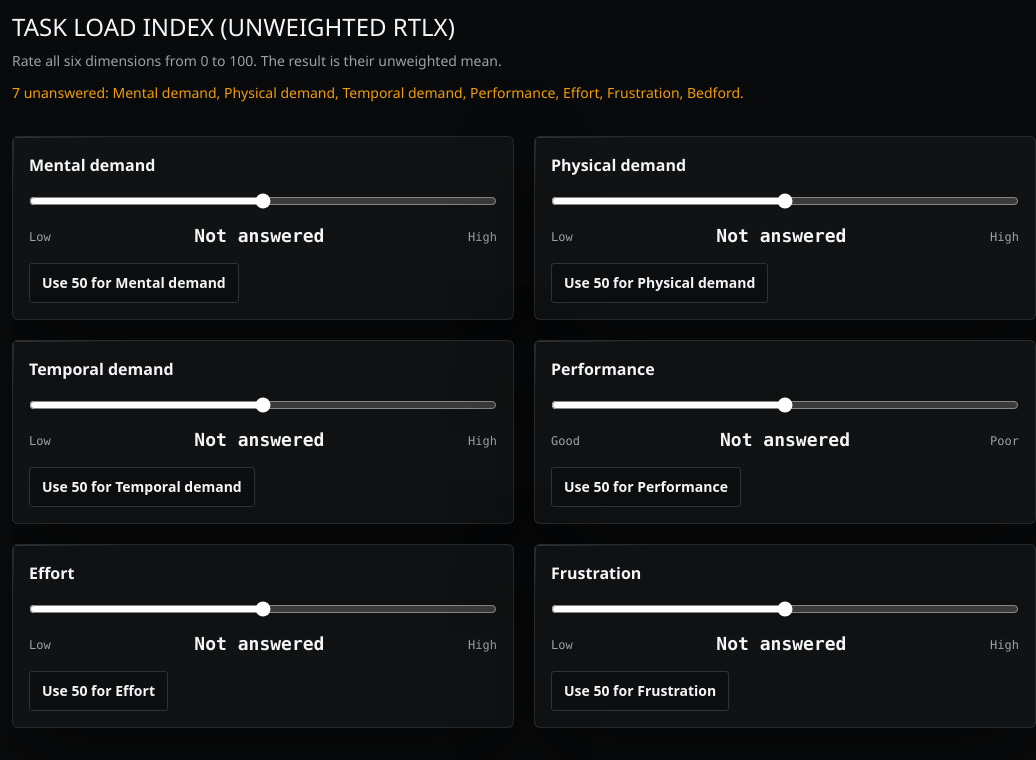
Test case: WorkloadQuestionnaire › keeps the midpoint unanswered until the participant deliberately chooses 50
The width and height of the screenshot is (1036, 760).
expect the text "7 unanswered: Mental demand, Physical demand, Temporal demand, Performance, Effort, Frustration, Bedford." is shown: met, box [12,84,744,103]
expect the text "Not answered" is shown 6 times: met, box [194,223,324,251]; [716,223,846,251]; [194,427,324,455]; [720,427,850,455]; [194,631,324,659]; [716,631,846,659]
Click the button "Use 50 for Mental demand": (134,283) [29,263,239,303]
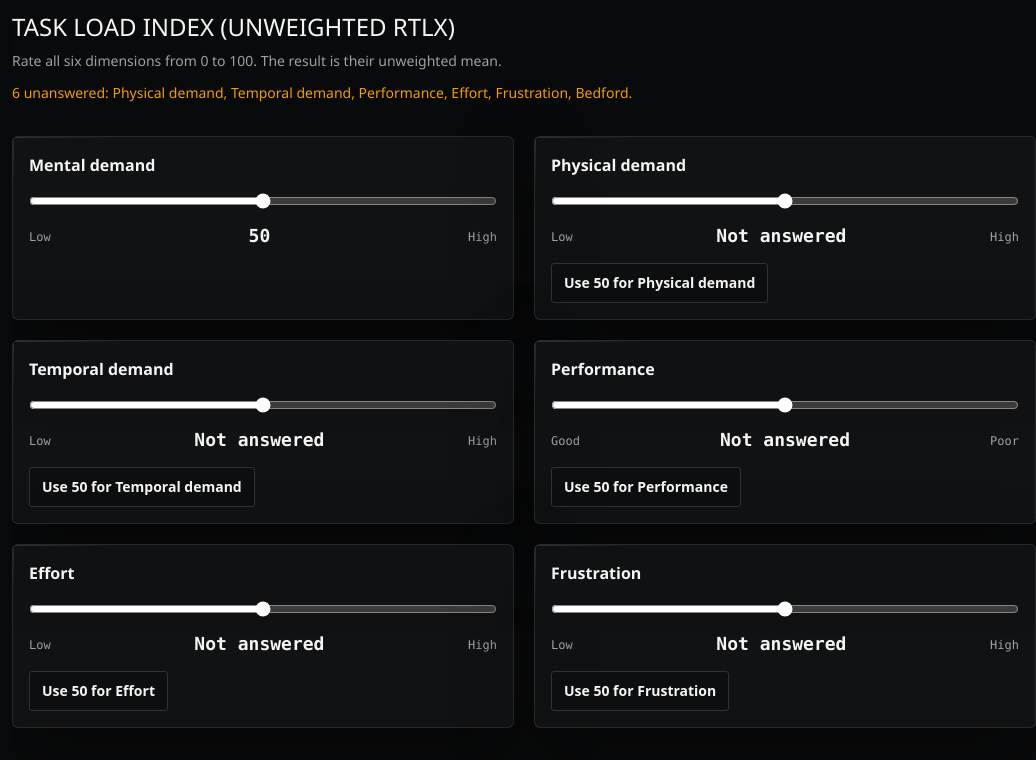
expect the text "6 unanswered: Physical demand, Temporal demand, Performance, Effort, Frustration, Bedford." is shown: met, box [12,84,632,103]
expect the text with test id "mental_demand-value" reads "50": met, box [248,226,270,247]
